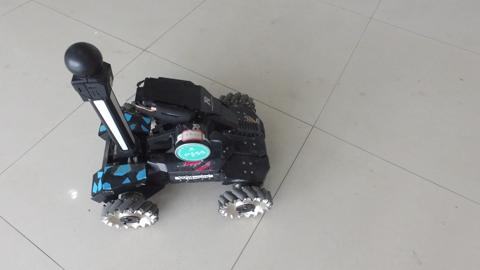chariot: (50, 73, 260, 225)
